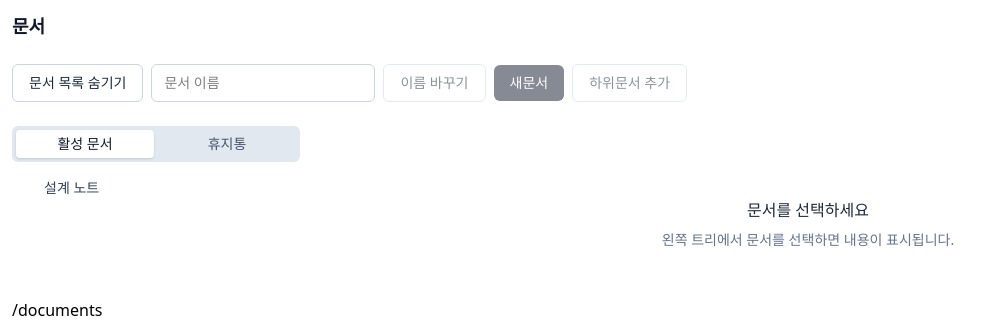
Test case: DocumentWorkspacePage 휴지통 모드 › 휴지통 탭 전환 시에만 목록을 로드하고 묶음 구성원을 표시한다
Expected: the button "설계 노트" is shown, [44,178,292,198]
What coordinates should you click on to do the following:
click the tab "휴지통"
I would click on:
 (227, 144)
Its box is [158,130,296,158].
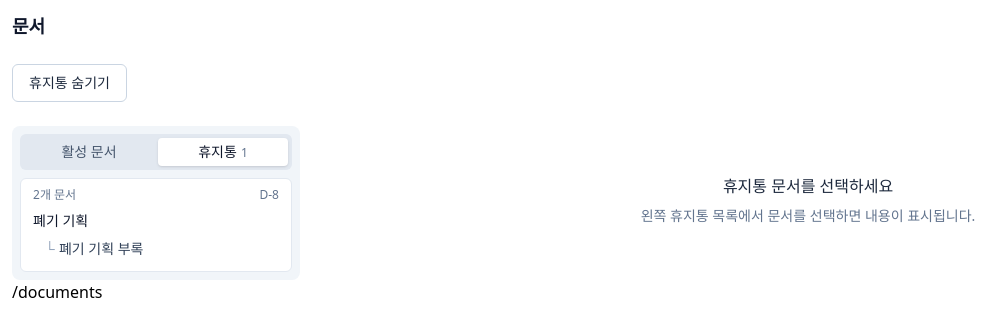
Expected: the text "폐기 기획" is shown, [33,211,88,231]
Expected: the text "폐기 기획 부록" is shown, [59,239,144,259]
Expected: the button "설계 노트" is gone
